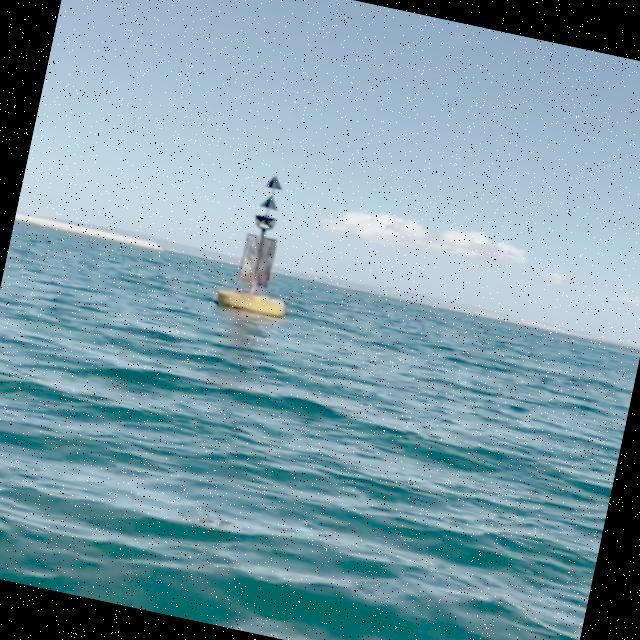marque: (218, 165, 320, 322)
